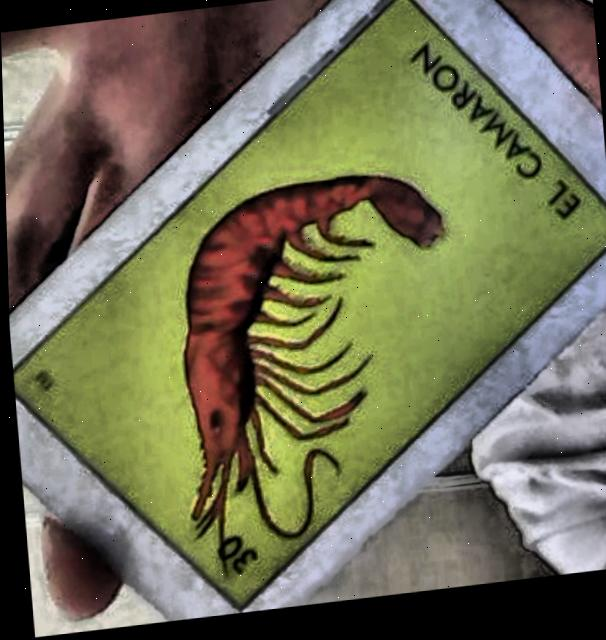El Camaron: (11, 0, 606, 611)
